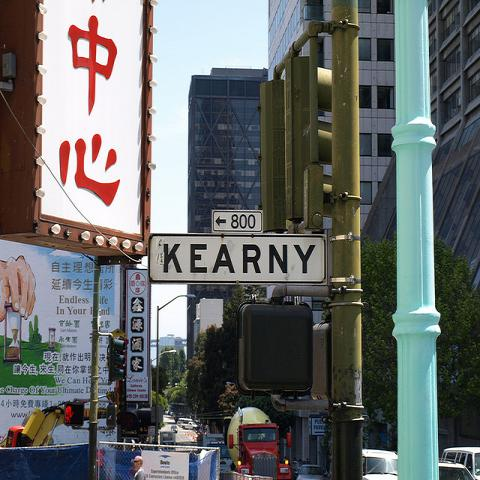car: (440, 446, 480, 479), (362, 448, 398, 479), (440, 463, 477, 479), (296, 464, 324, 479)
truck: (226, 404, 292, 479), (160, 431, 176, 452), (181, 422, 198, 431)
